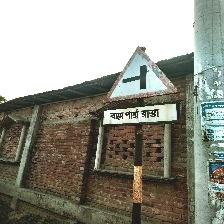Side-road-left: (103, 46, 181, 124)
